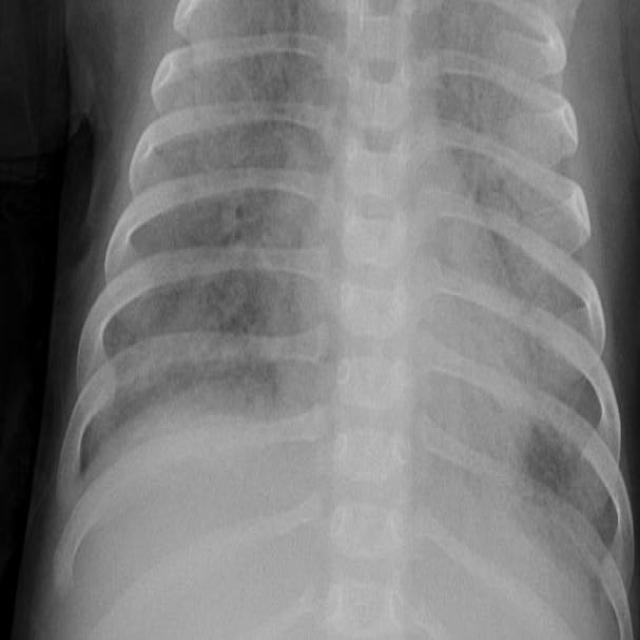low-pneumonia: (262, 10, 344, 360)
